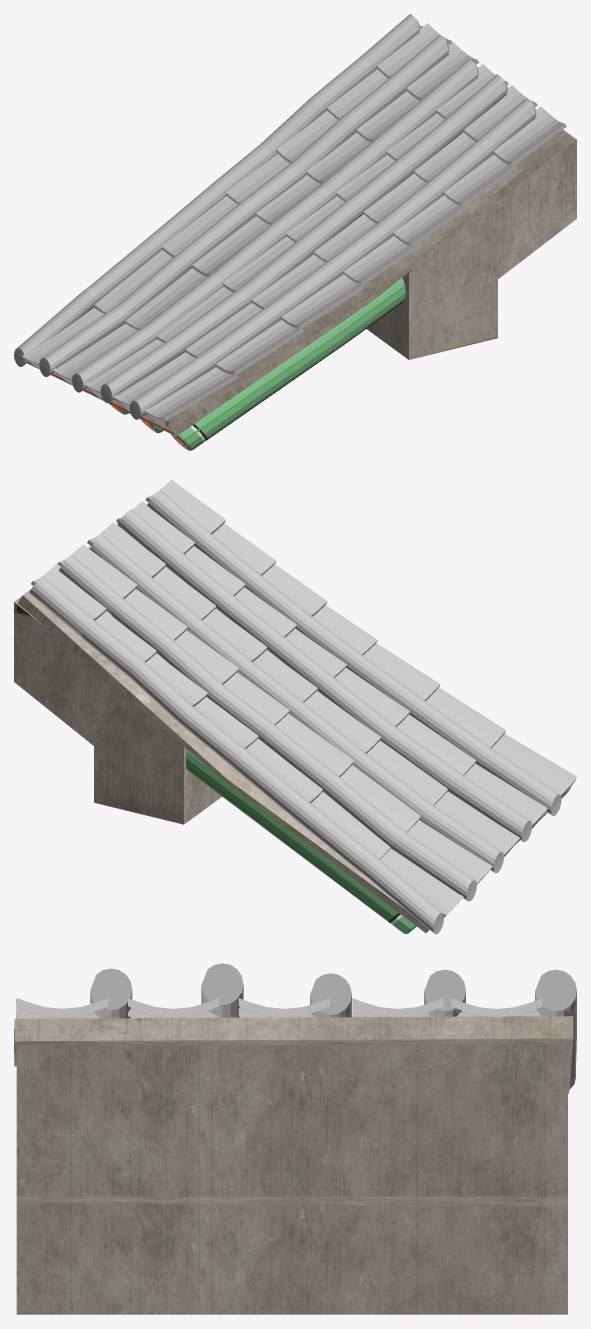
The model's file is SM_Roof_21.fbx.
The picture shows the model from 3 angles, top to bottom: view 1: azimuth 30°, elevation 25°; view 2: azimuth 150°, elevation 25°; view 3: azimuth 270°, elevation 25°; orthographic projection. The views are drawn at different scales.
Visible parts, largest first — view 1: SM_Roof_21; view 2: SM_Roof_21; view 3: SM_Roof_21.
Boxes of the visible parts, x1=… form: SM_Roof_21: x1=14, y1=14, x2=576, y2=450; SM_Roof_21: x1=14, y1=479, x2=576, y2=934; SM_Roof_21: x1=14, y1=963, x2=576, y2=1314.
Size of the model in its own units: 333 by 201 by 205.
